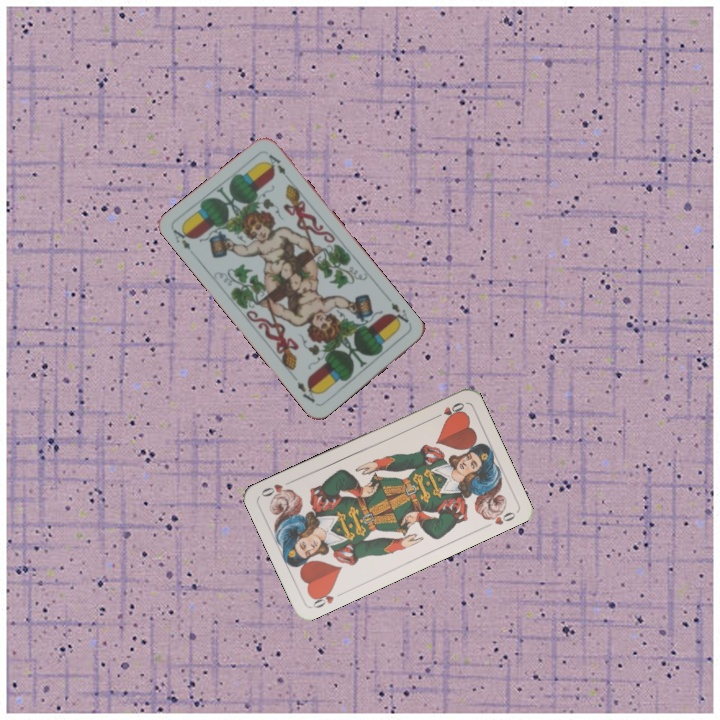EA: (385, 298, 411, 329), (169, 223, 193, 253)
HO: (429, 398, 467, 421), (308, 584, 337, 611)
